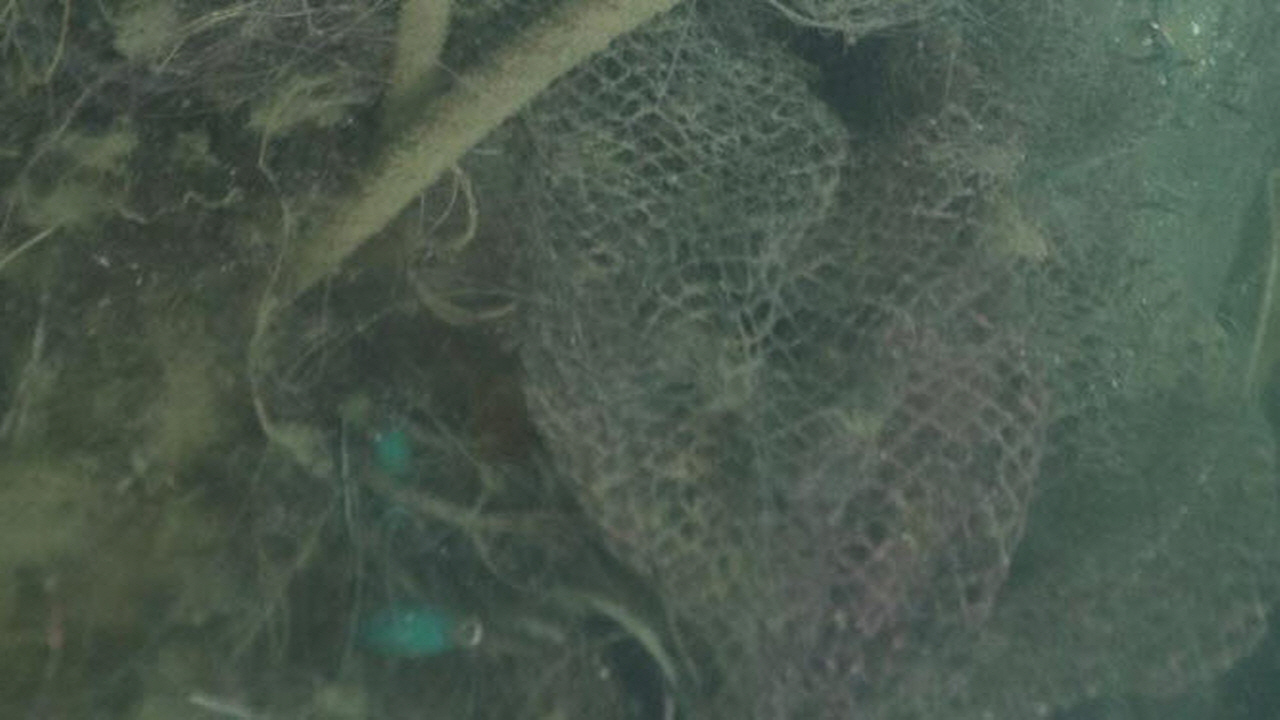fish net: (503, 0, 1280, 720)
